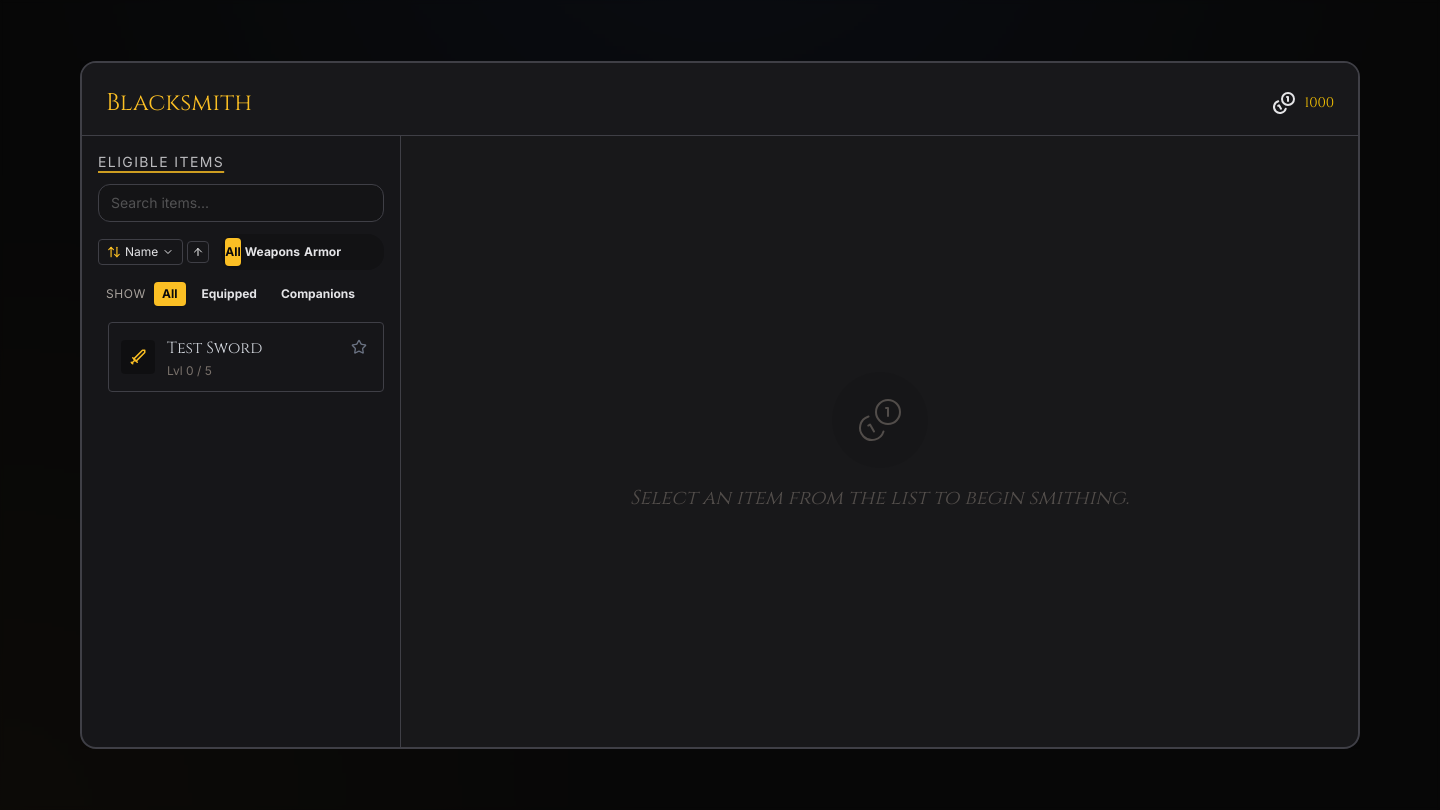
Test: Blacksmith modal upgrade flow › disables confirm button during spark animation and clears sparks after timeout
// select the item
Click the text "Test Sword".
click(215, 348)  # box [167,336,262,360]
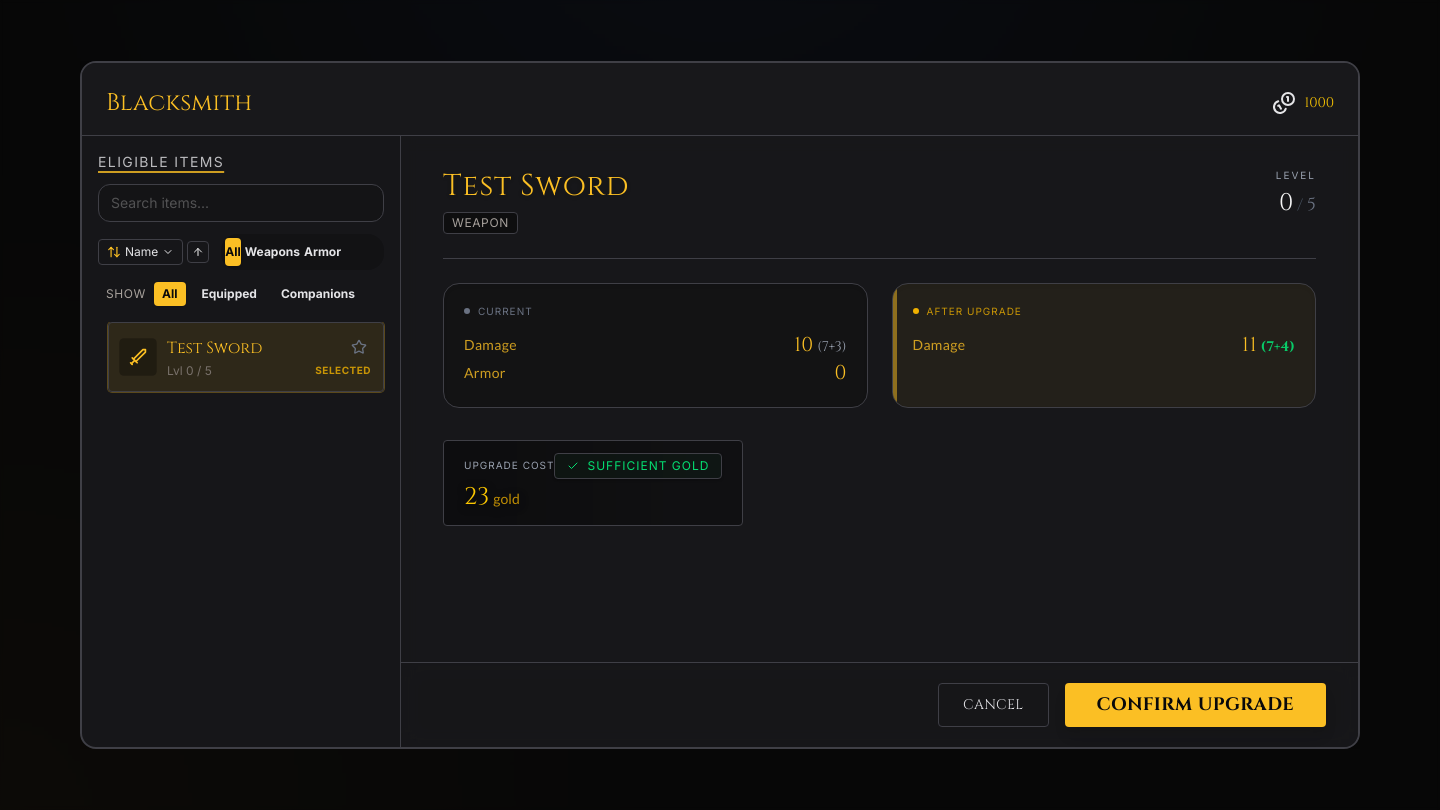
Expected: the button "Confirm Upgrade" is shown
Click the button "Confirm Upgrade".
click(1195, 705)  # box [1064,683,1326,727]
Wait 50 ms
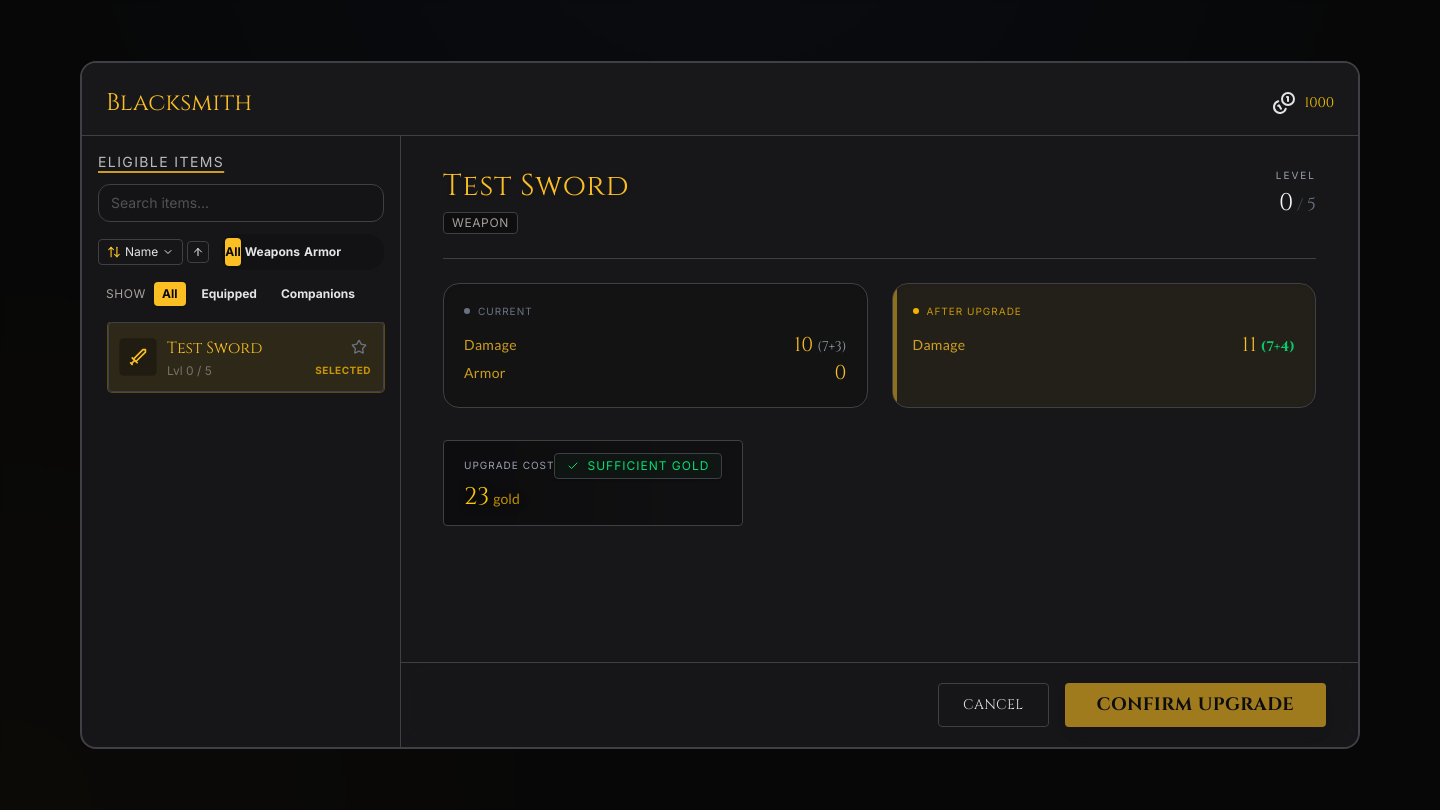
Expected: the button "Confirm Upgrade" is disabled, [1064,683,1326,727]
